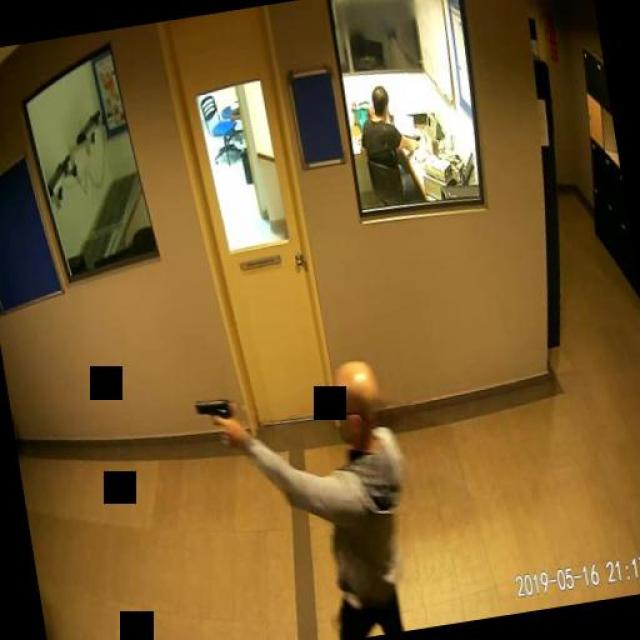gun: (192, 395, 236, 449)
